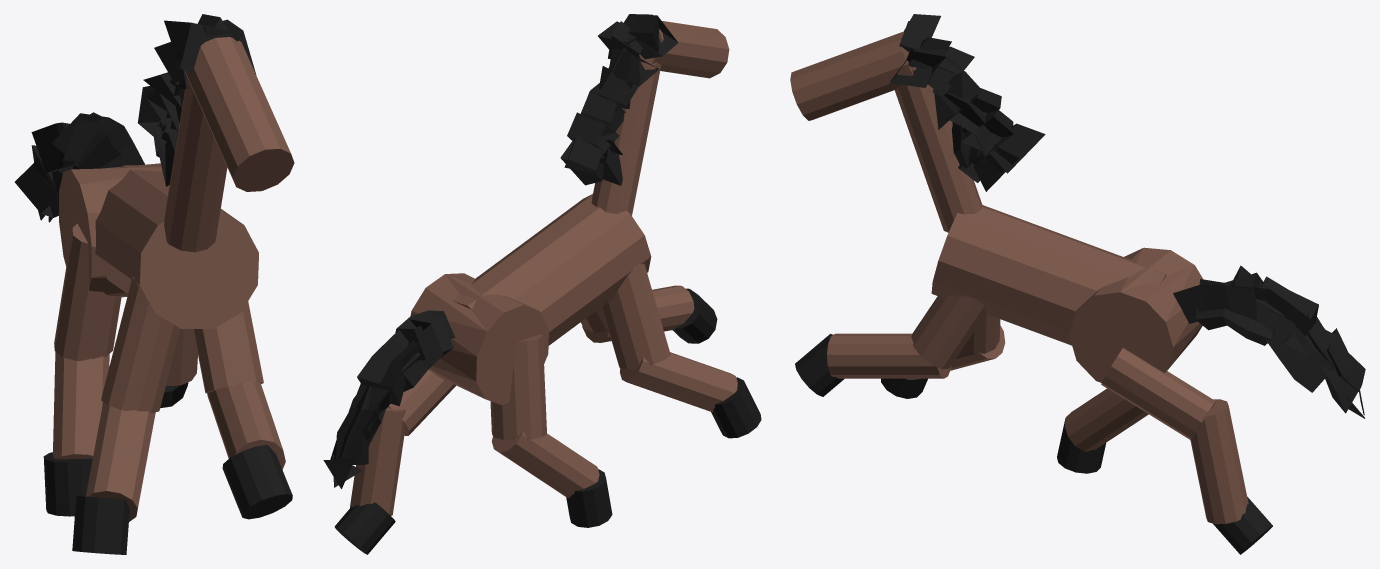
3 renders of one model, left to right at view 1: azimuth 30°, elevation 25°; view 2: azimuth 150°, elevation 25°; view 3: azimuth 270°, elevation 25°, orthographic. The views are drawn at different scales.
Visible parts, largest first — view 1: mesh_1156459338, group_179063014, mesh_1647678226, mesh_780813729, group_79338463, mesh_1194142032, group_798181833, mesh_293511551, mesh_1167169532, mesh_1761127844, mesh_765155929, mesh_1454836821 (+3 smaller); view 2: mesh_1156459338, group_179063014, mesh_1167169532, group_798181833, group_79338463, group_1754958788, mesh_1194142032, mesh_780813729, mesh_293511551, mesh_1647678226, mesh_948909523, mesh_765155929 (+2 smaller); view 3: mesh_1156459338, group_79338463, group_1754958788, mesh_1167169532, group_798181833, mesh_1647678226, mesh_780813729, mesh_765155929, group_179063014, mesh_1761127844, mesh_1454836821, mesh_1194142032 (+3 smaller).
Boxes of the visible parts, x1,y1,x2,y2 form: mesh_1156459338: [95, 165, 258, 328]; group_179063014: [43, 223, 121, 516]; mesh_1647678226: [185, 37, 294, 191]; mesh_780813729: [164, 78, 227, 252]; group_79338463: [15, 112, 144, 217]; mesh_1194142032: [101, 277, 180, 413]; group_798181833: [138, 14, 256, 157]; mesh_293511551: [85, 402, 155, 521]; mesh_1167169532: [59, 163, 162, 297]; mesh_1761127844: [193, 301, 263, 393]; mesh_765155929: [207, 381, 285, 469]; mesh_1454836821: [222, 445, 292, 519]; mesh_1156459338: [452, 194, 651, 345]; group_179063014: [490, 334, 612, 527]; mesh_1167169532: [410, 273, 548, 405]; group_798181833: [560, 14, 678, 185]; group_79338463: [330, 310, 455, 464]; group_1754958788: [334, 370, 456, 554]; mesh_1194142032: [602, 263, 670, 369]; mesh_780813729: [591, 54, 661, 215]; mesh_293511551: [620, 352, 737, 412]; mesh_1647678226: [652, 21, 729, 78]; mesh_948909523: [711, 377, 761, 438]; mesh_765155929: [582, 285, 694, 342]; mesh_1156459338: [931, 205, 1166, 345]; group_79338463: [1173, 265, 1365, 413]; group_1754958788: [1101, 348, 1272, 554]; mesh_1167169532: [1069, 247, 1202, 382]; group_798181833: [890, 14, 1045, 191]; mesh_1647678226: [790, 31, 913, 120]; mesh_780813729: [894, 66, 982, 232]; mesh_765155929: [827, 333, 951, 378]; group_179063014: [1057, 388, 1148, 473]; mesh_1761127844: [911, 295, 985, 369]; mesh_1454836821: [795, 333, 844, 396]; mesh_1194142032: [963, 314, 1000, 353].
Size of the model in its own units: 148 by 252 by 280.
